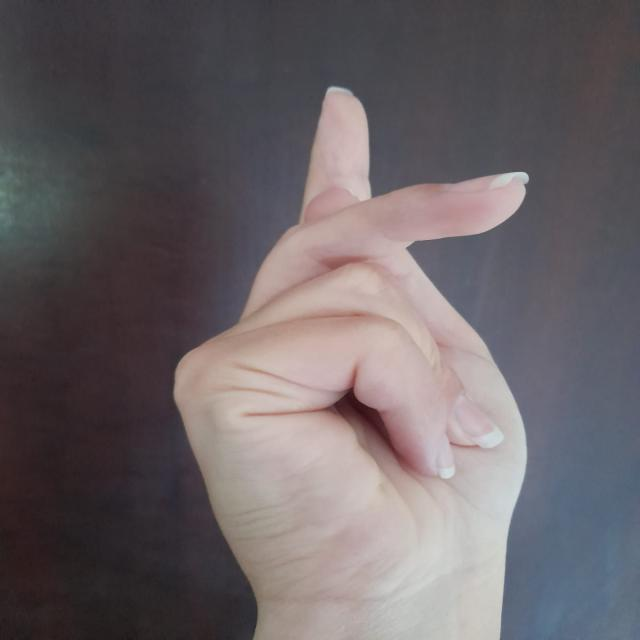K: (176, 76, 547, 578)
